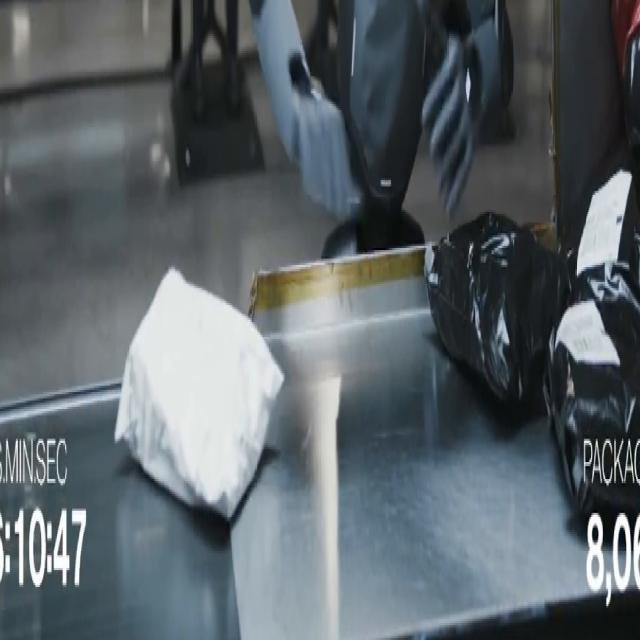package: (115, 270, 283, 519), (545, 170, 639, 514), (425, 212, 569, 402), (545, 274, 639, 514), (561, 170, 639, 290)
